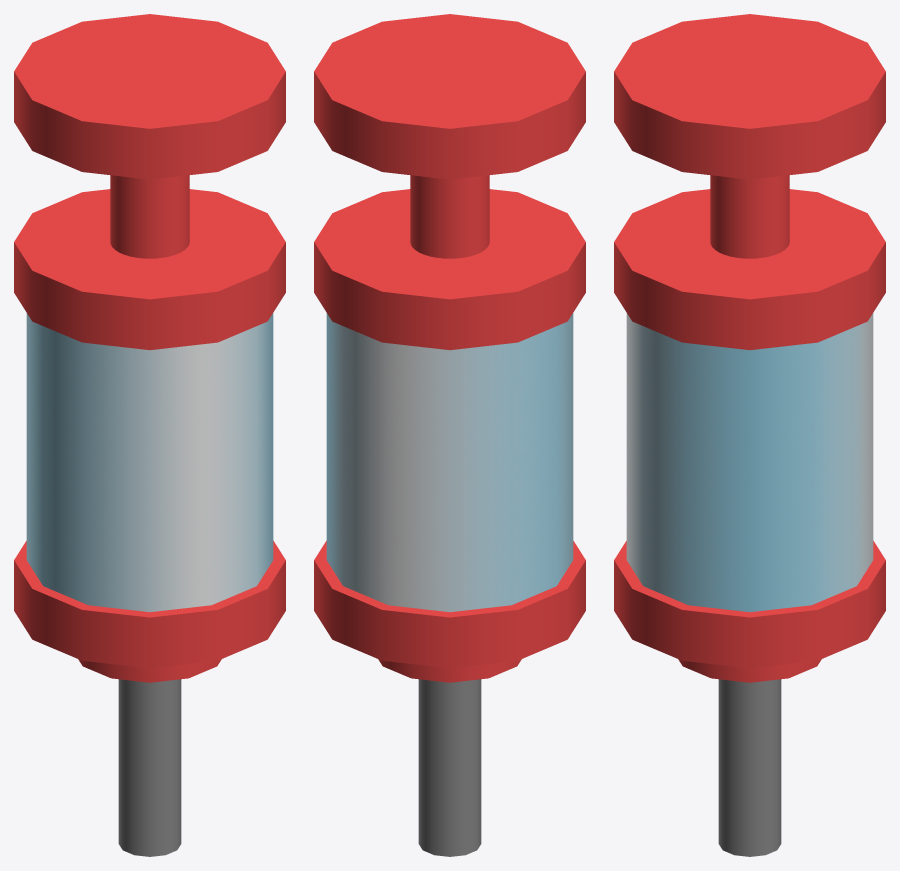
File: syringe.fbx
3 views of the same model, side by side, from view 1: azimuth 30°, elevation 25°; view 2: azimuth 150°, elevation 25°; view 3: azimuth 270°, elevation 25° (orthographic).
Parts seen in each view (by area): view 1: syringe; view 2: syringe; view 3: syringe.
Part boxes in pixels (x1,y1,x2,y2): syringe: (14, 14, 285, 856); syringe: (314, 14, 585, 856); syringe: (614, 14, 885, 856).
Size of the model in its own units: 50.03 by 157 by 50.03.
Materials: 1 (1 with a texture image).
